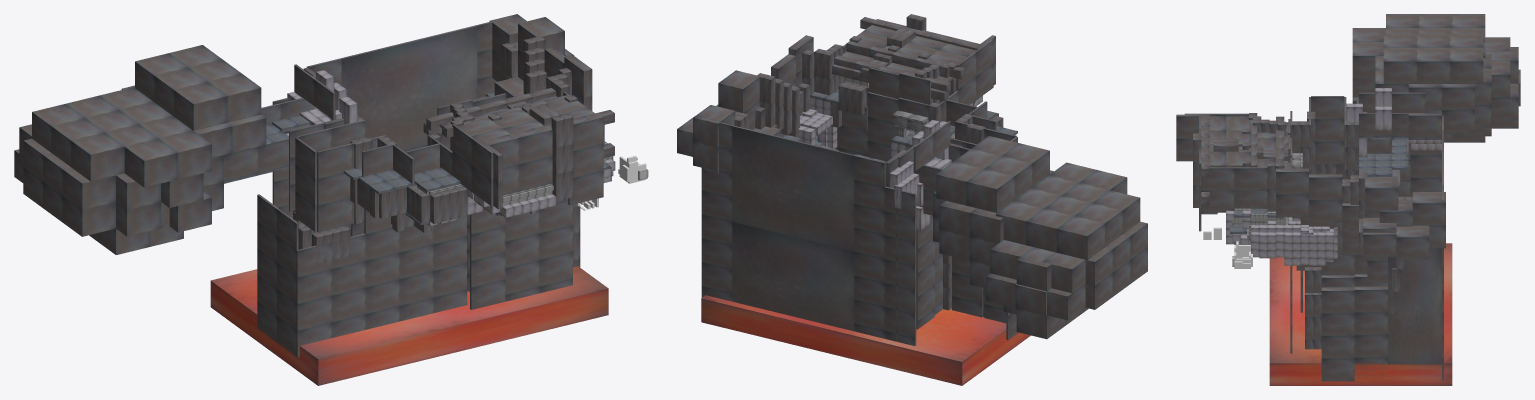
The model's file is level1_15.fbx.
The picture shows the model from 3 angles, left to right: view 1: azimuth 30°, elevation 25°; view 2: azimuth 150°, elevation 25°; view 3: azimuth 270°, elevation 25°; orthographic projection. The views are drawn at different scales.
Visible parts, largest first — view 1: lava.001, 16x12.310, 16x12.149, 16x12.256, 16x12.410, 16x12.143, 16x12.411, 16x12.253, 16x12.134, 16x12.133, 16x12.157, 16x12.408 (+87 smaller); view 2: 16x12.310, lava.001, 16x12.311, 16x12.157, 16x12.161, 16x12.122, 16x12.148, 16x12.158, 16x12.160, 16x12.147, 16x12.121, 16x12.159 (+69 smaller); view 3: lava.001, 16x12.128, 16x12.411, 16x12.158, 16x12.409, 16x12.122, 16x12.124, 16x12.121, 16x12.253, 16x12.342, 16x12.341, 16x12.117 (+54 smaller).
Boxes of the visible parts, x1,y1,x2,y2 form: lava.001: (210,266,608,385); 16x12.310: (341,25,477,150); 16x12.149: (71,132,124,181); 16x12.256: (124,138,177,187); 16x12.410: (174,82,227,130); 16x12.143: (62,167,115,210); 16x12.411: (208,73,261,122); 16x12.253: (159,130,211,179); 16x12.134: (62,196,115,236); 16x12.133: (116,202,160,236); 16x12.157: (135,53,187,101); 16x12.408: (154,67,207,116); 16x12.310: (732,125,854,251); lava.001: (701,295,1030,385); 16x12.311: (732,222,854,331); 16x12.157: (966,169,1014,212); 16x12.161: (1057,216,1104,260); 16x12.122: (718,70,760,112); 16x12.148: (1016,247,1061,291); 16x12.158: (936,161,983,205); 16x12.160: (1026,208,1073,252); 16x12.147: (1042,252,1085,293); 16x12.121: (693,105,735,147); 16x12.159: (996,201,1043,245); lava.001: (1269,243,1452,385); 16x12.128: (1388,248,1441,364); 16x12.411: (1383,47,1416,83); 16x12.158: (1450,47,1483,83); 16x12.409: (1417,47,1449,83); 16x12.122: (1365,176,1398,210); 16x12.124: (1396,225,1429,259); 16x12.121: (1412,192,1445,225); 16x12.253: (1352,42,1383,78); 16x12.342: (1321,287,1354,313); 16x12.341: (1354,286,1387,312); 16x12.117: (1309,174,1342,200).
Size of the model in its own units: 23500 by 11300 by 16600.
